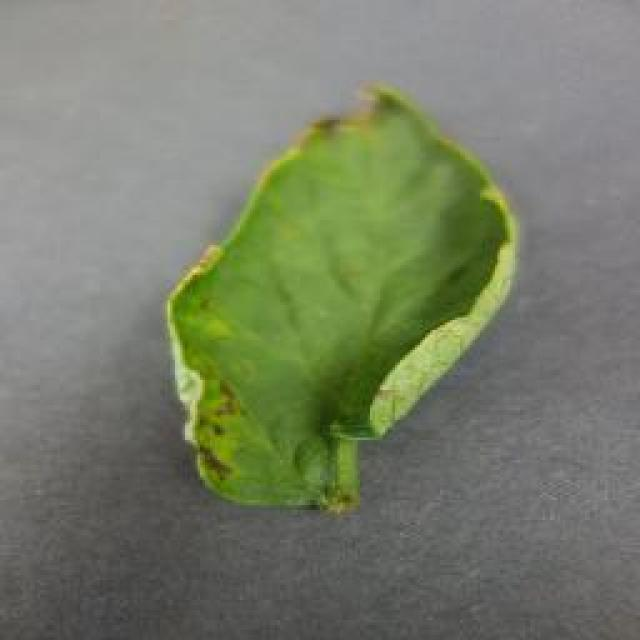Tomato bacterial spot leaf: (141, 51, 551, 544)
